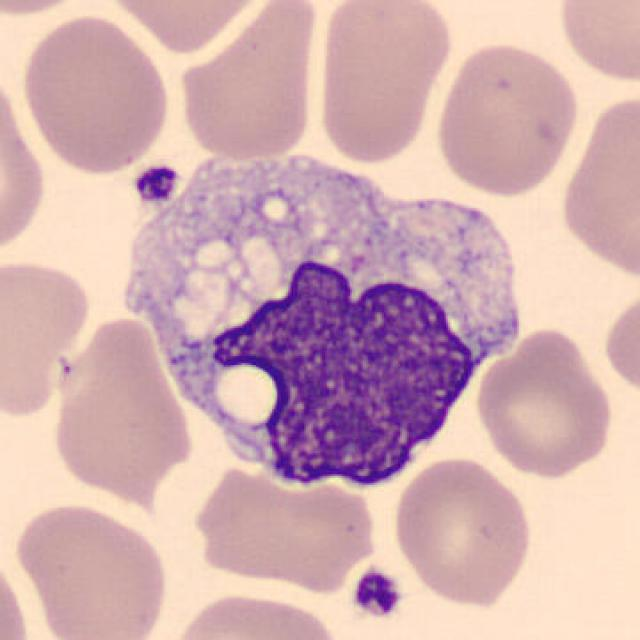Monocyte: (100, 136, 532, 495)
Platelets: (348, 566, 406, 621), (132, 160, 180, 207)
RBC: (46, 308, 198, 501), (16, 11, 174, 176), (174, 0, 326, 166), (311, 0, 455, 167), (432, 39, 581, 199), (471, 324, 619, 482), (196, 467, 382, 592), (11, 497, 172, 640), (389, 453, 535, 610), (555, 86, 638, 288), (0, 252, 94, 421), (0, 60, 50, 266), (97, 0, 276, 55), (165, 589, 345, 640), (552, 0, 638, 86), (599, 284, 638, 404), (0, 550, 32, 640), (0, 0, 103, 18)
